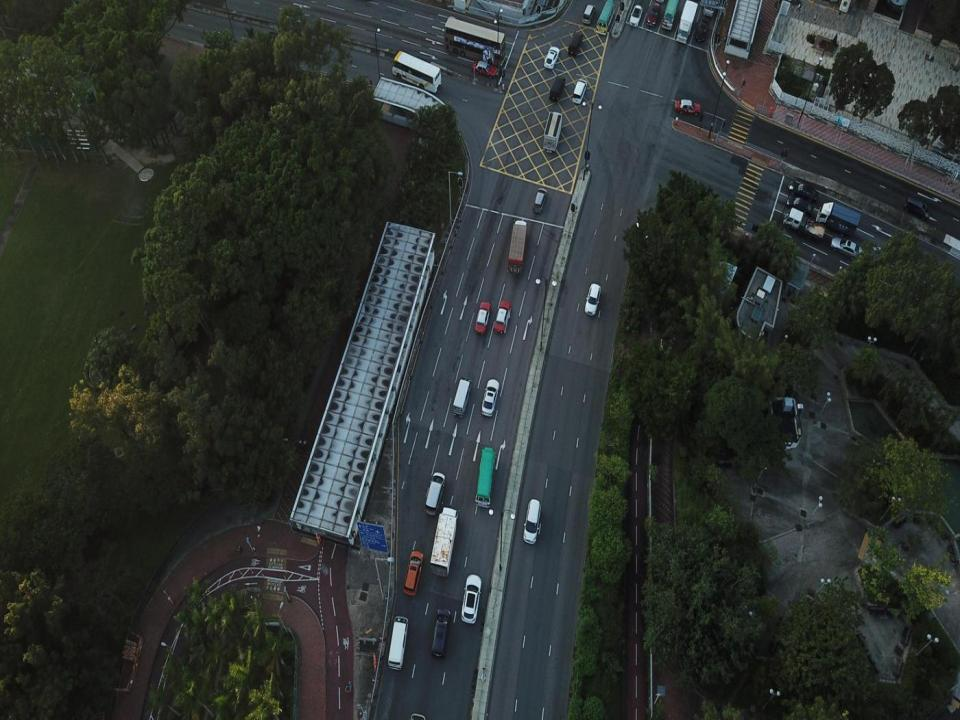bus: (444, 16, 506, 65), (391, 49, 442, 92), (474, 447, 496, 509), (596, 0, 621, 35), (661, 0, 678, 31)
car: (460, 574, 482, 625), (402, 550, 424, 596), (831, 235, 865, 260), (522, 500, 540, 545), (788, 178, 819, 204), (481, 379, 499, 417), (903, 196, 930, 220), (584, 283, 601, 317), (494, 302, 510, 334), (474, 302, 490, 334), (786, 196, 814, 214), (472, 61, 498, 79), (532, 187, 548, 214), (674, 100, 702, 115), (542, 47, 559, 70), (647, 2, 660, 26), (629, 5, 642, 28), (582, 4, 595, 26), (696, 20, 707, 42)
truck: (430, 508, 458, 577), (816, 202, 861, 236), (782, 207, 826, 240), (507, 220, 528, 275), (675, 0, 698, 45)
van: (387, 616, 409, 670), (430, 608, 450, 660), (424, 472, 445, 516), (452, 376, 472, 420), (543, 112, 562, 151), (548, 76, 566, 102), (568, 31, 584, 59), (573, 80, 587, 105)
